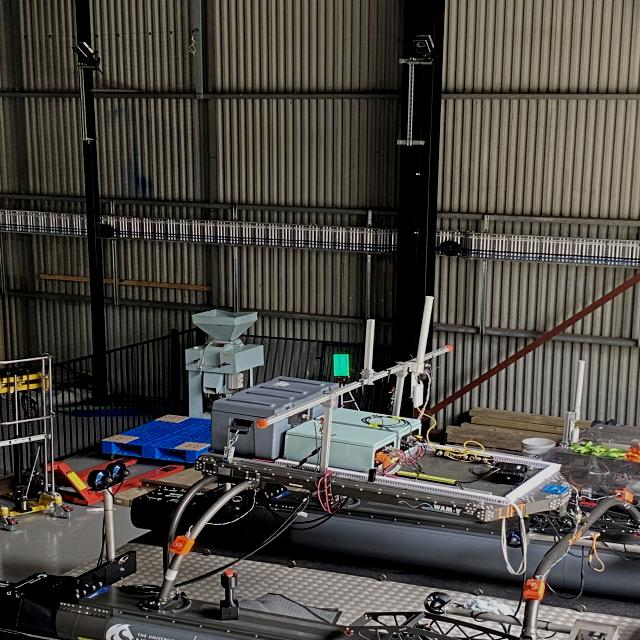matrix: (332, 353, 352, 377)
